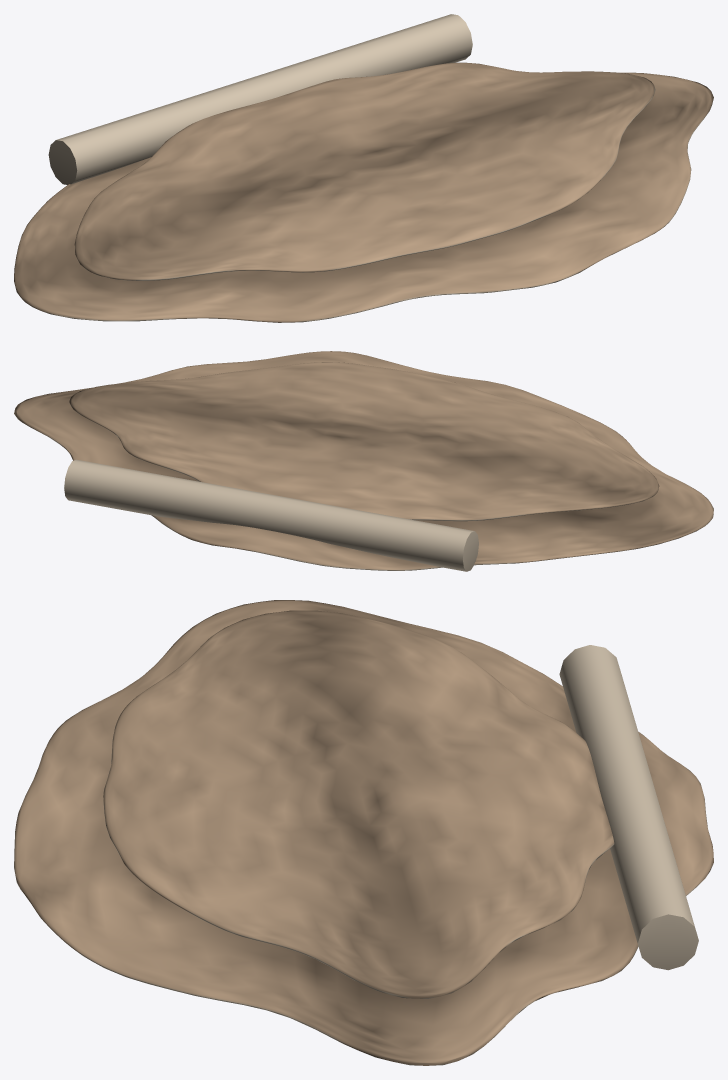
The model's file is hide.glb.
3 renders of one model, top to bottom at view 1: azimuth 30°, elevation 25°; view 2: azimuth 150°, elevation 25°; view 3: azimuth 270°, elevation 25°, orthographic. The views are drawn at different scales.
Parts seen in each view (by area): view 1: Body_lod0; view 2: Body_lod0; view 3: Body_lod0.
Part boxes in pixels (x1,y1,x2,y2): Body_lod0: (14, 14, 713, 322); Body_lod0: (14, 351, 713, 571); Body_lod0: (14, 600, 713, 1065).
Size of what is drawn, in the model's own units: 0.4274 by 0.031 by 0.2723.
